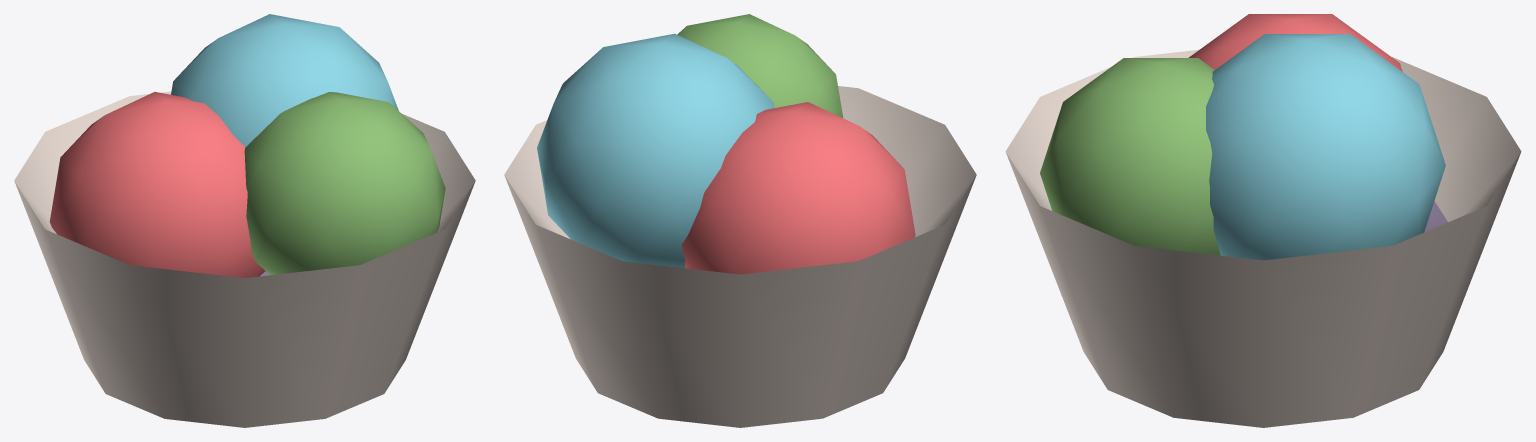
Rendered from IceCream.fbx.
The picture shows the model from 3 angles, left to right: view 1: azimuth 30°, elevation 25°; view 2: azimuth 150°, elevation 25°; view 3: azimuth 270°, elevation 25°; orthographic projection. The views are drawn at different scales.
Parts seen in each view (by area): view 1: Icecream; view 2: Icecream; view 3: Icecream.
Boxes of the visible parts, x1,y1,x2,y2 form: Icecream: [14, 14, 475, 427]; Icecream: [504, 14, 976, 427]; Icecream: [1005, 14, 1521, 427].
Bounding box in the file's own units: 73.97 × 54.33 × 73.97.
Materials: 1 (1 with a texture image).
